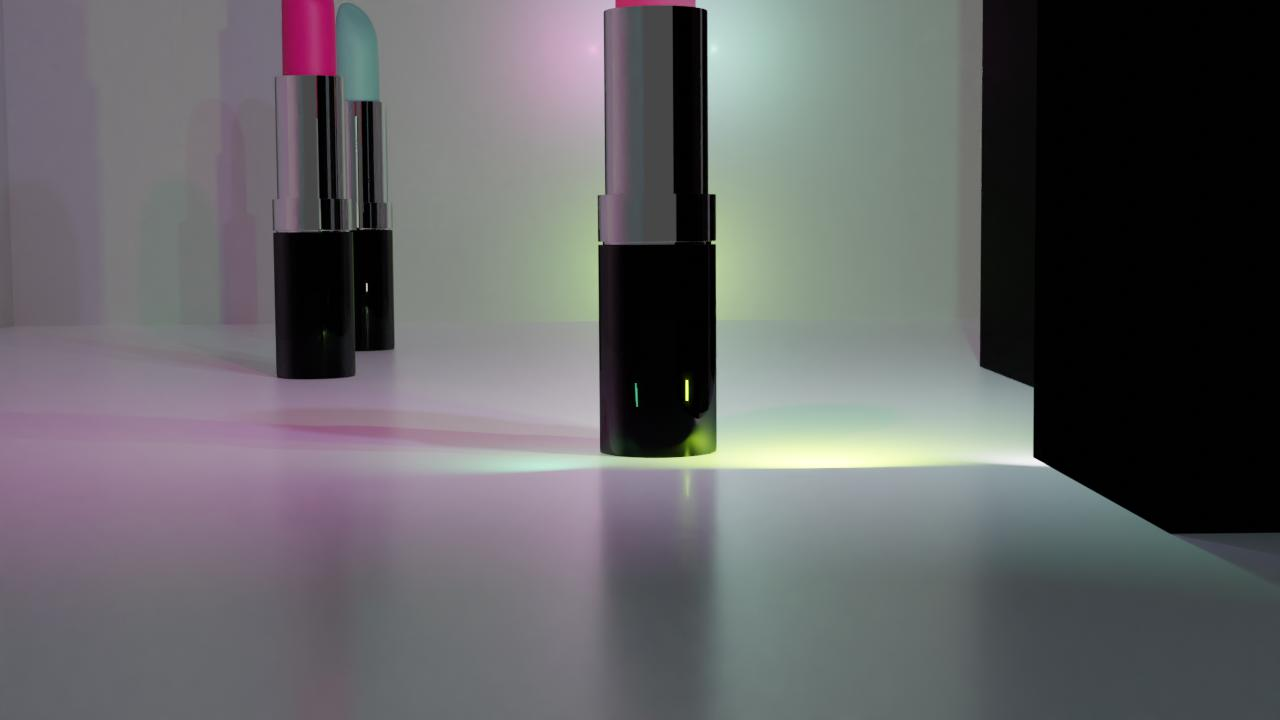CLASSIFIER_NAME: (597, 0, 719, 467), (270, 0, 357, 379), (325, 0, 396, 351)
